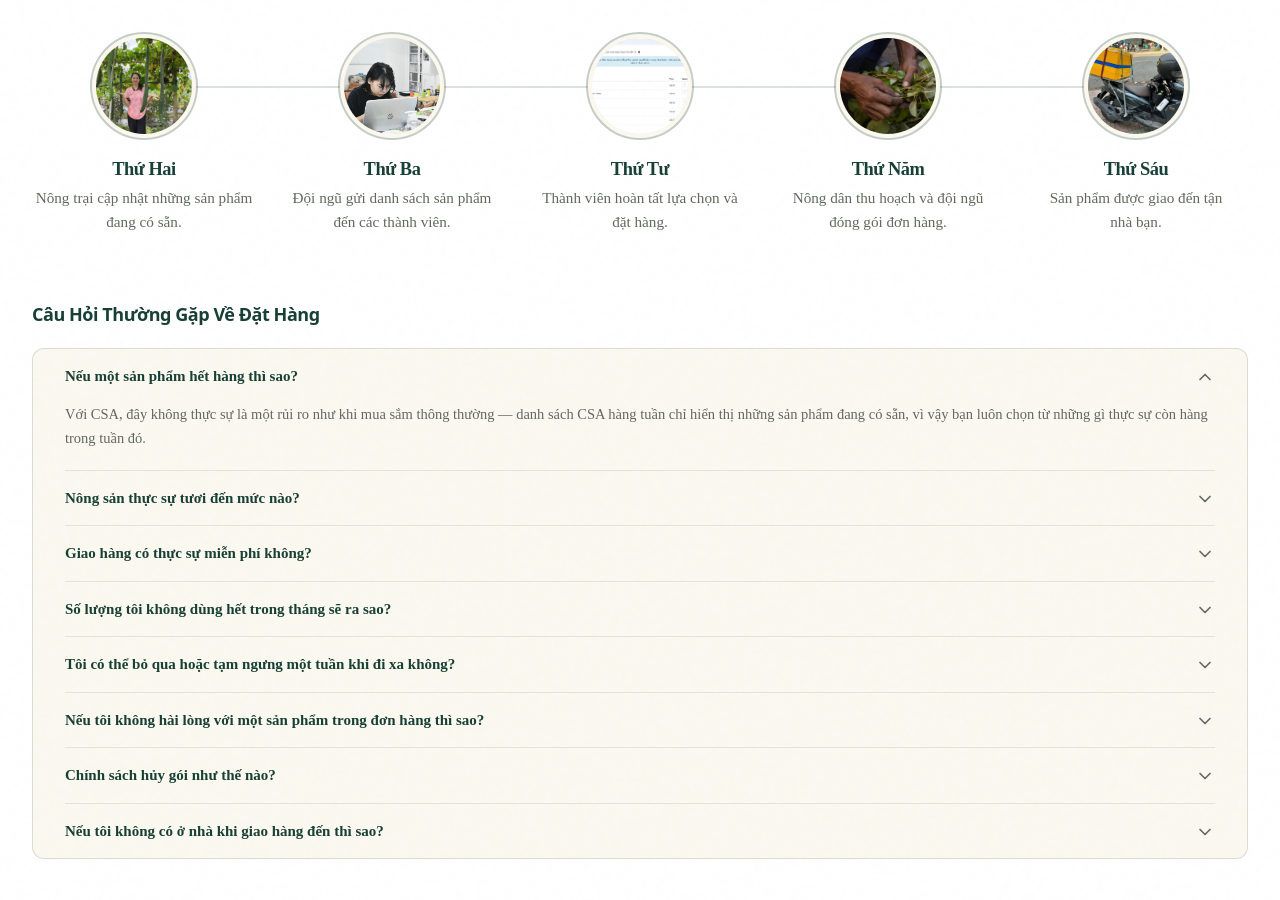
Test: public CSA Membership › renders all vi CSA FAQ questions and answers with an accessible accordion
(page scrolled)
Check: the heading "Câu Hỏi Thường Gặp Về Đặt Hàng" is shown, box [32,302,320,326]
Click the button "Nông sản thực sự tươi đến mức nào?". click: (182, 498)
box: [65,471,1215,525]
(page scrolled)
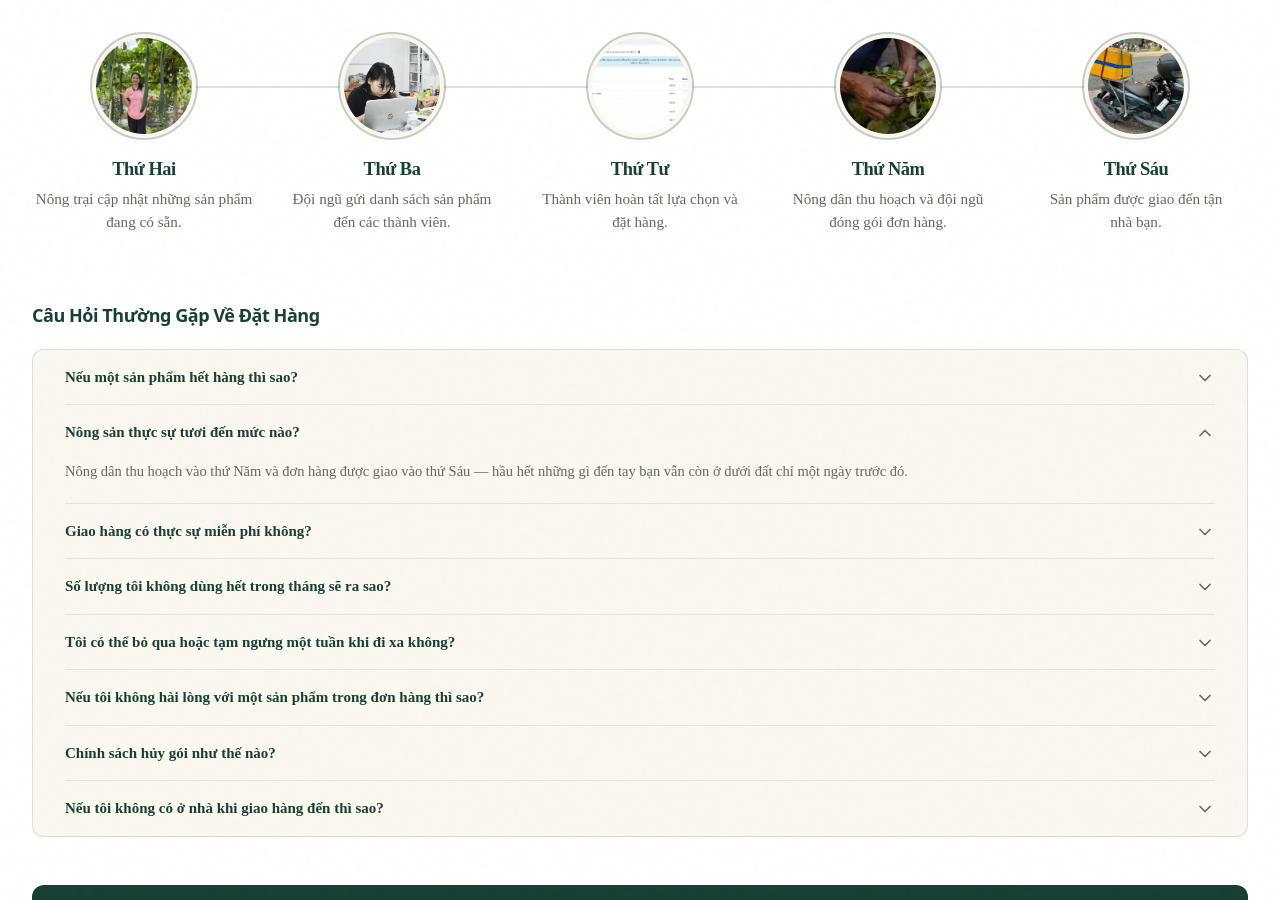
Check: the button "Nếu một sản phẩm hết hàng thì sao?" is collapsed, box [65,350,1215,404]
Check: the button "Nông sản thực sự tươi đến mức nào?" is expanded, box [65,405,1215,460]
